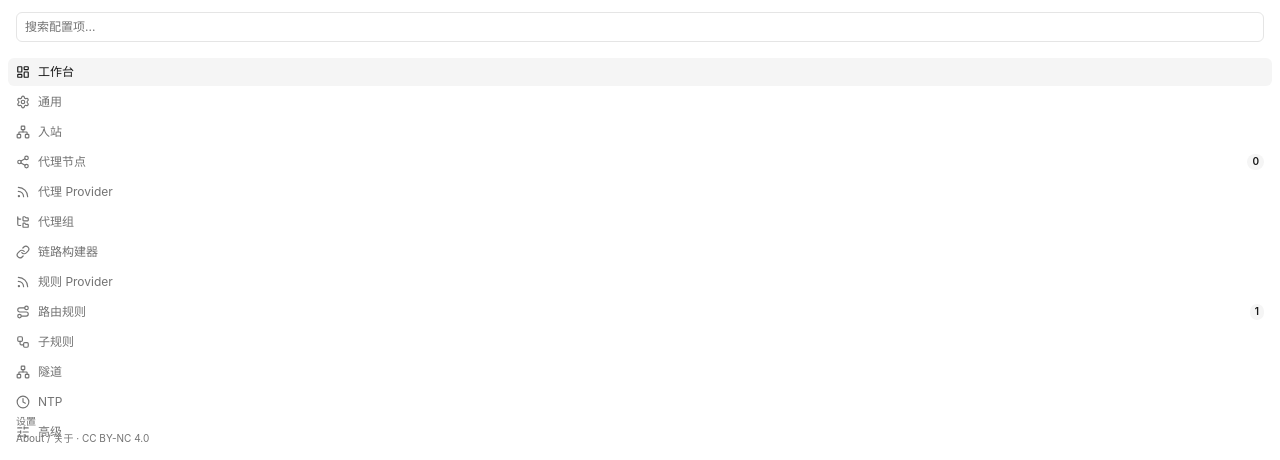
NavTree component › should filter nav items when typing in search field
The width and height of the screenshot is (1280, 460).
Type "代理" into the field with placeholder "搜索配置项..." at (640, 27), box [16,12,1264,42]
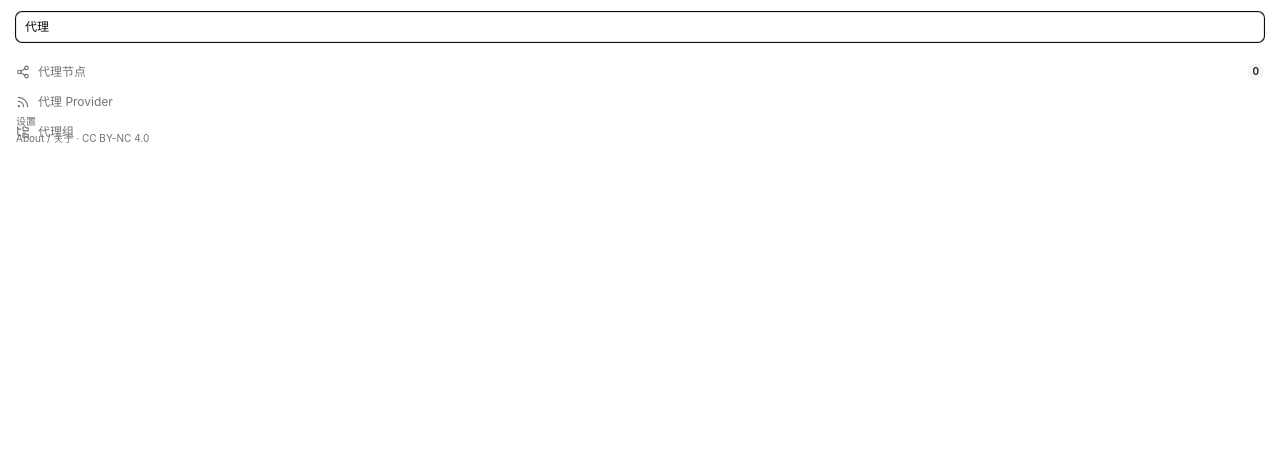
Expected: the text "代理节点" is shown, [38,64,86,79]
Expected: the button "工作台" is gone
